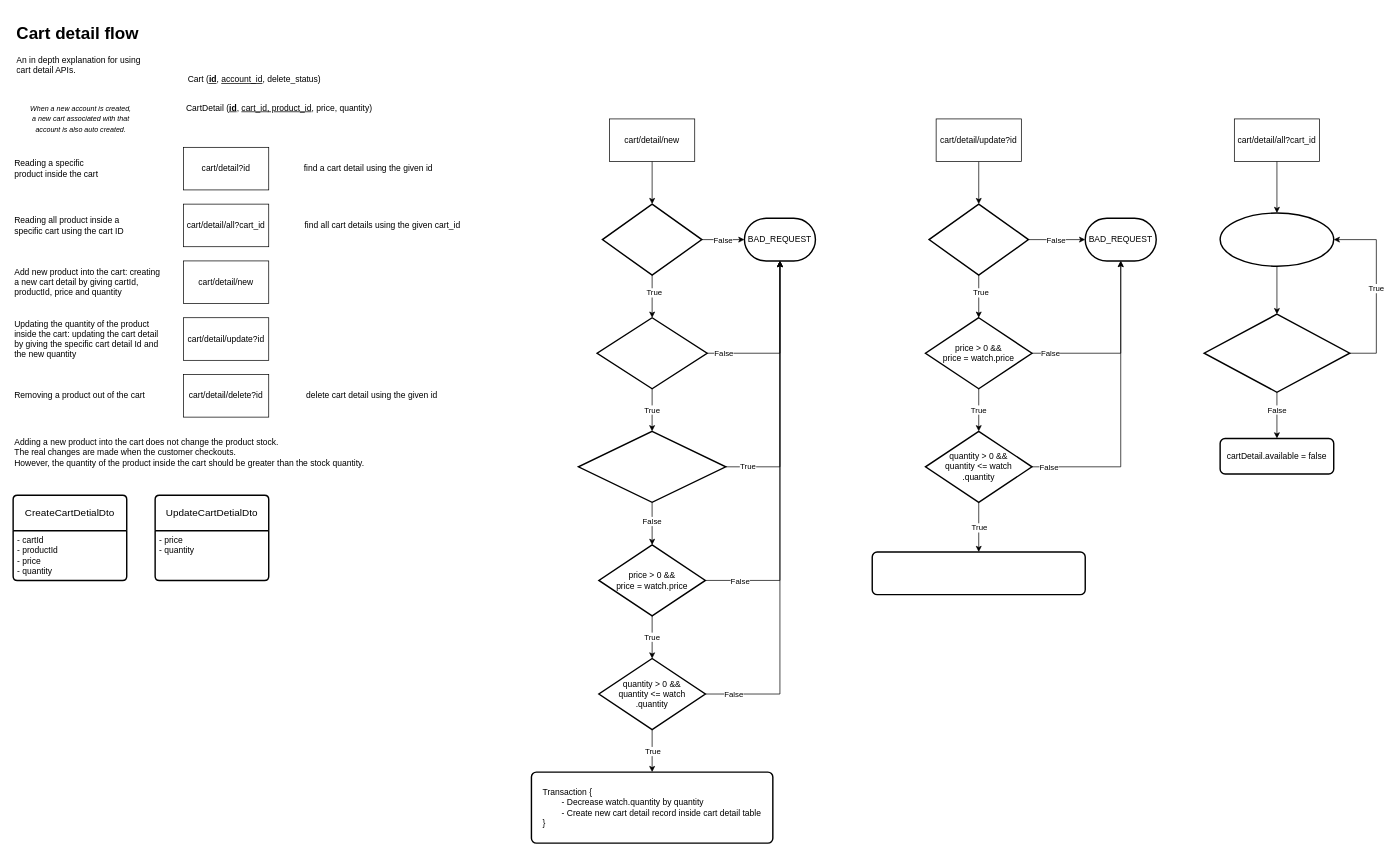
This 1396x856 diagram has some shape labels left out. The centre of each missing label's shape, as x and y in pixels:
"Duplicated (cartId, watchId)" goes at [651,466].
"exist cart" goes at [651,239].
"exist cart detail" goes at [978,239].
"exist product" goes at [652,353].
"For each cart detail with cartId = :cart_id" goes at [1276,239].
"quantity <= watch.quantity" goes at [1276,353].
"Transaction { - Update watch.quantity with the new quantity }" goes at [978,573].
